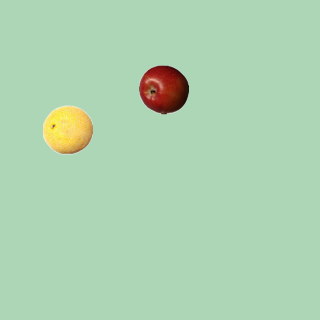Apple Braeburn: (138, 64, 188, 114)
Cantaloupe 1: (42, 104, 92, 154)
